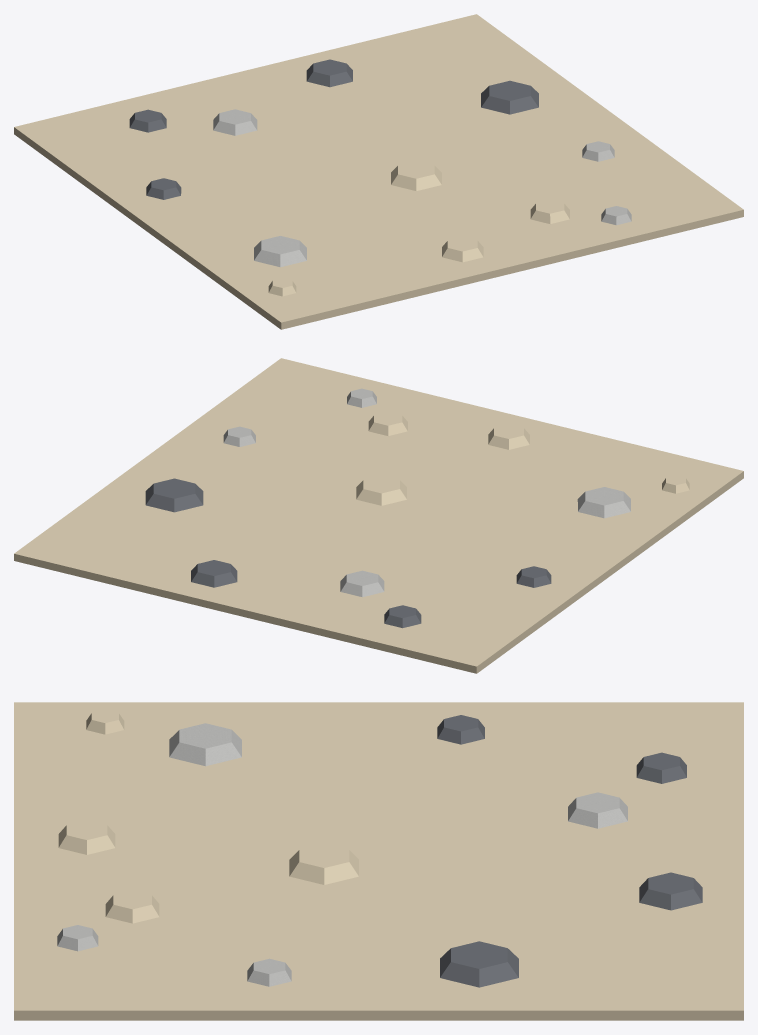
Rendered from go-kart-track-and-pit-lane-run-off-gravel-tile-59cb25bb__34335.glb.
3 views of the same model, one above another, from view 1: azimuth 30°, elevation 25°; view 2: azimuth 150°, elevation 25°; view 3: azimuth 270°, elevation 25° (orthographic). The views are drawn at different scales.
Parts seen in each view (by area): view 1: run-off-gravel-tile-gravel, run-off-gravel-tile-charcoal, run-off-gravel-tile-concrete; view 2: run-off-gravel-tile-gravel, run-off-gravel-tile-charcoal, run-off-gravel-tile-concrete; view 3: run-off-gravel-tile-gravel, run-off-gravel-tile-charcoal, run-off-gravel-tile-concrete.
Part boxes in pixels (<box>): run-off-gravel-tile-gravel: <box>14,14,743,329</box>; run-off-gravel-tile-charcoal: <box>129,59,538,199</box>; run-off-gravel-tile-concrete: <box>213,109,631,267</box>; run-off-gravel-tile-gravel: <box>14,358,743,673</box>; run-off-gravel-tile-charcoal: <box>145,478,551,628</box>; run-off-gravel-tile-concrete: <box>223,388,630,597</box>; run-off-gravel-tile-gravel: <box>14,702,743,1020</box>; run-off-gravel-tile-charcoal: <box>437,715,702,987</box>; run-off-gravel-tile-concrete: <box>57,723,627,986</box>.
Bounding box in the file's own units: 8 × 0.2798 × 8.
Materials: 3 (1 with a texture image).
